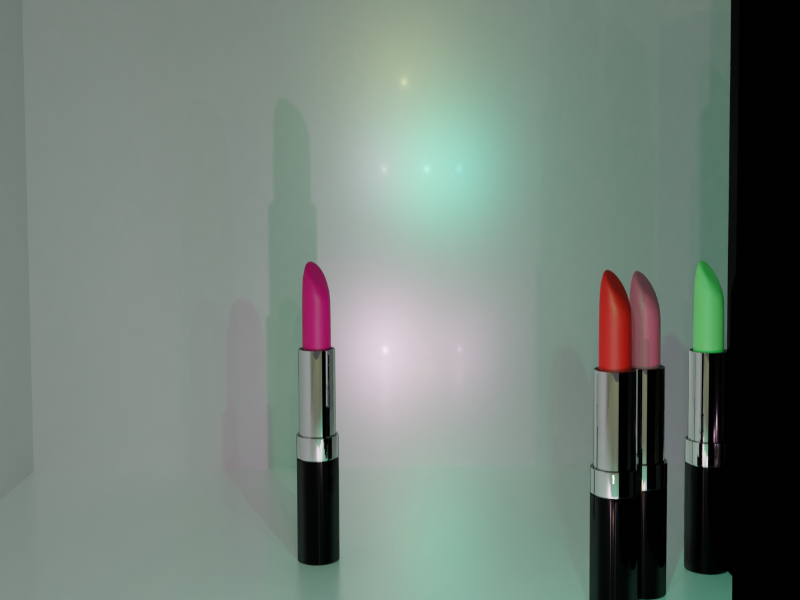lipstick: (595, 266, 634, 599), (691, 261, 732, 571), (299, 261, 340, 565), (632, 271, 664, 600)
